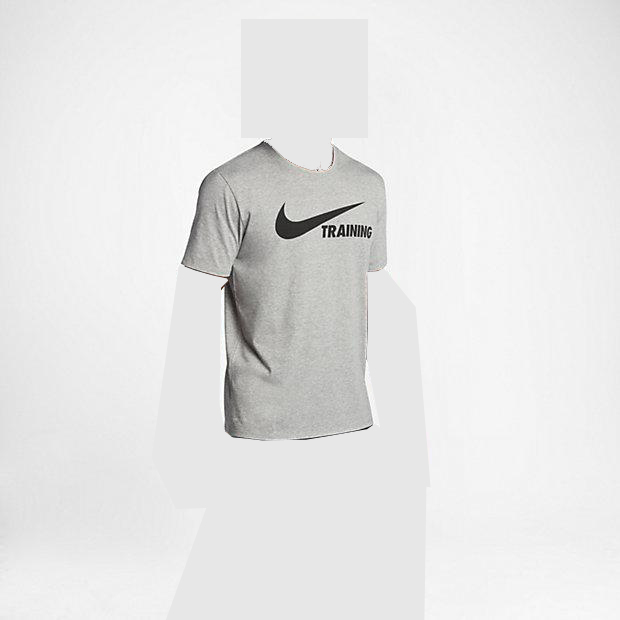teeshirt: (174, 140, 394, 443)
